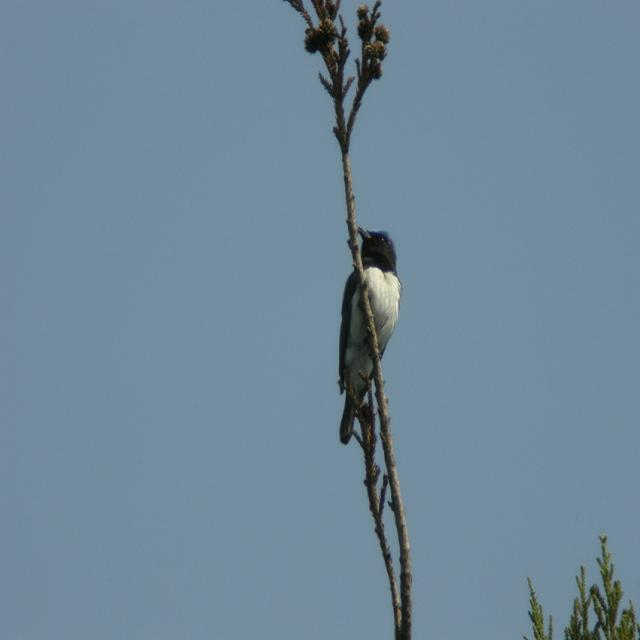bird: (328, 217, 406, 466)
